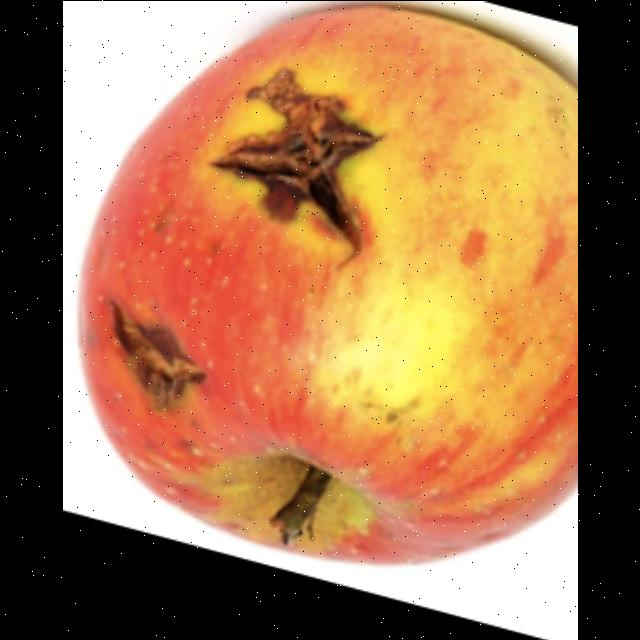Apel Tidak Segar: (80, 1, 578, 566)
